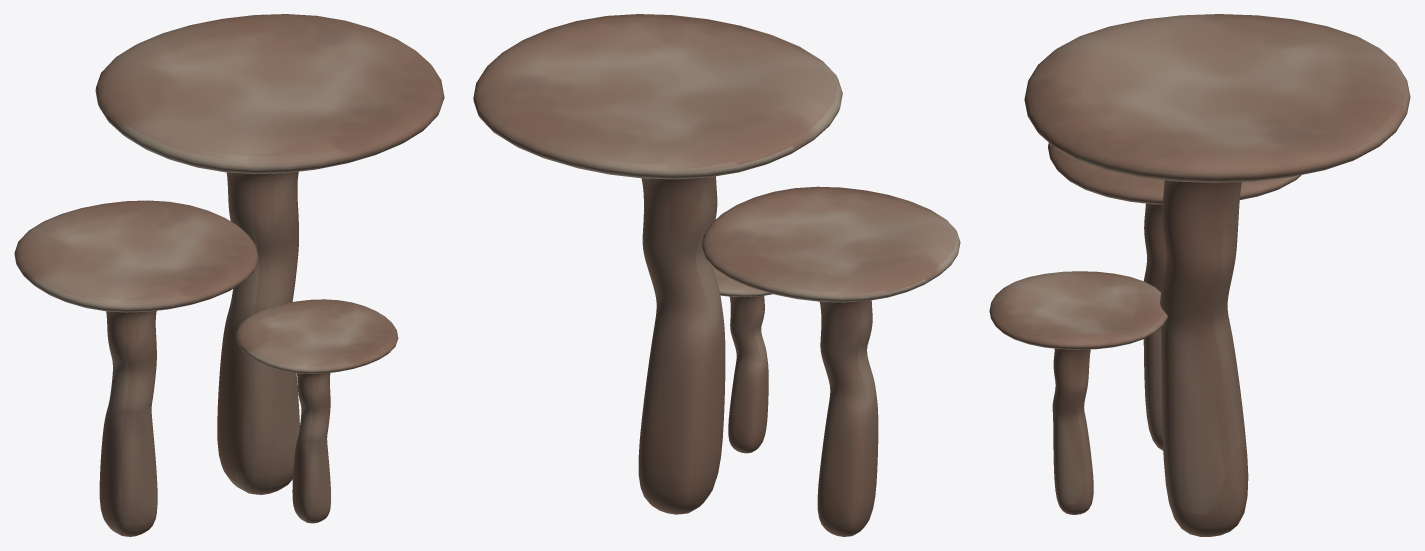
Rendered from flatmushrooms.fbx.
3 renders of one model, left to right at view 1: azimuth 30°, elevation 25°; view 2: azimuth 150°, elevation 25°; view 3: azimuth 270°, elevation 25°, orthographic. The views are drawn at different scales.
Visible parts, largest first — view 1: Cube; view 2: Cube; view 3: Cube.
Boxes of the visible parts, x1,y1,x2,y2 form: Cube: [14, 14, 444, 536]; Cube: [473, 14, 960, 536]; Cube: [989, 14, 1410, 536].
Size of the model in its own units: 195 by 187 by 157.
